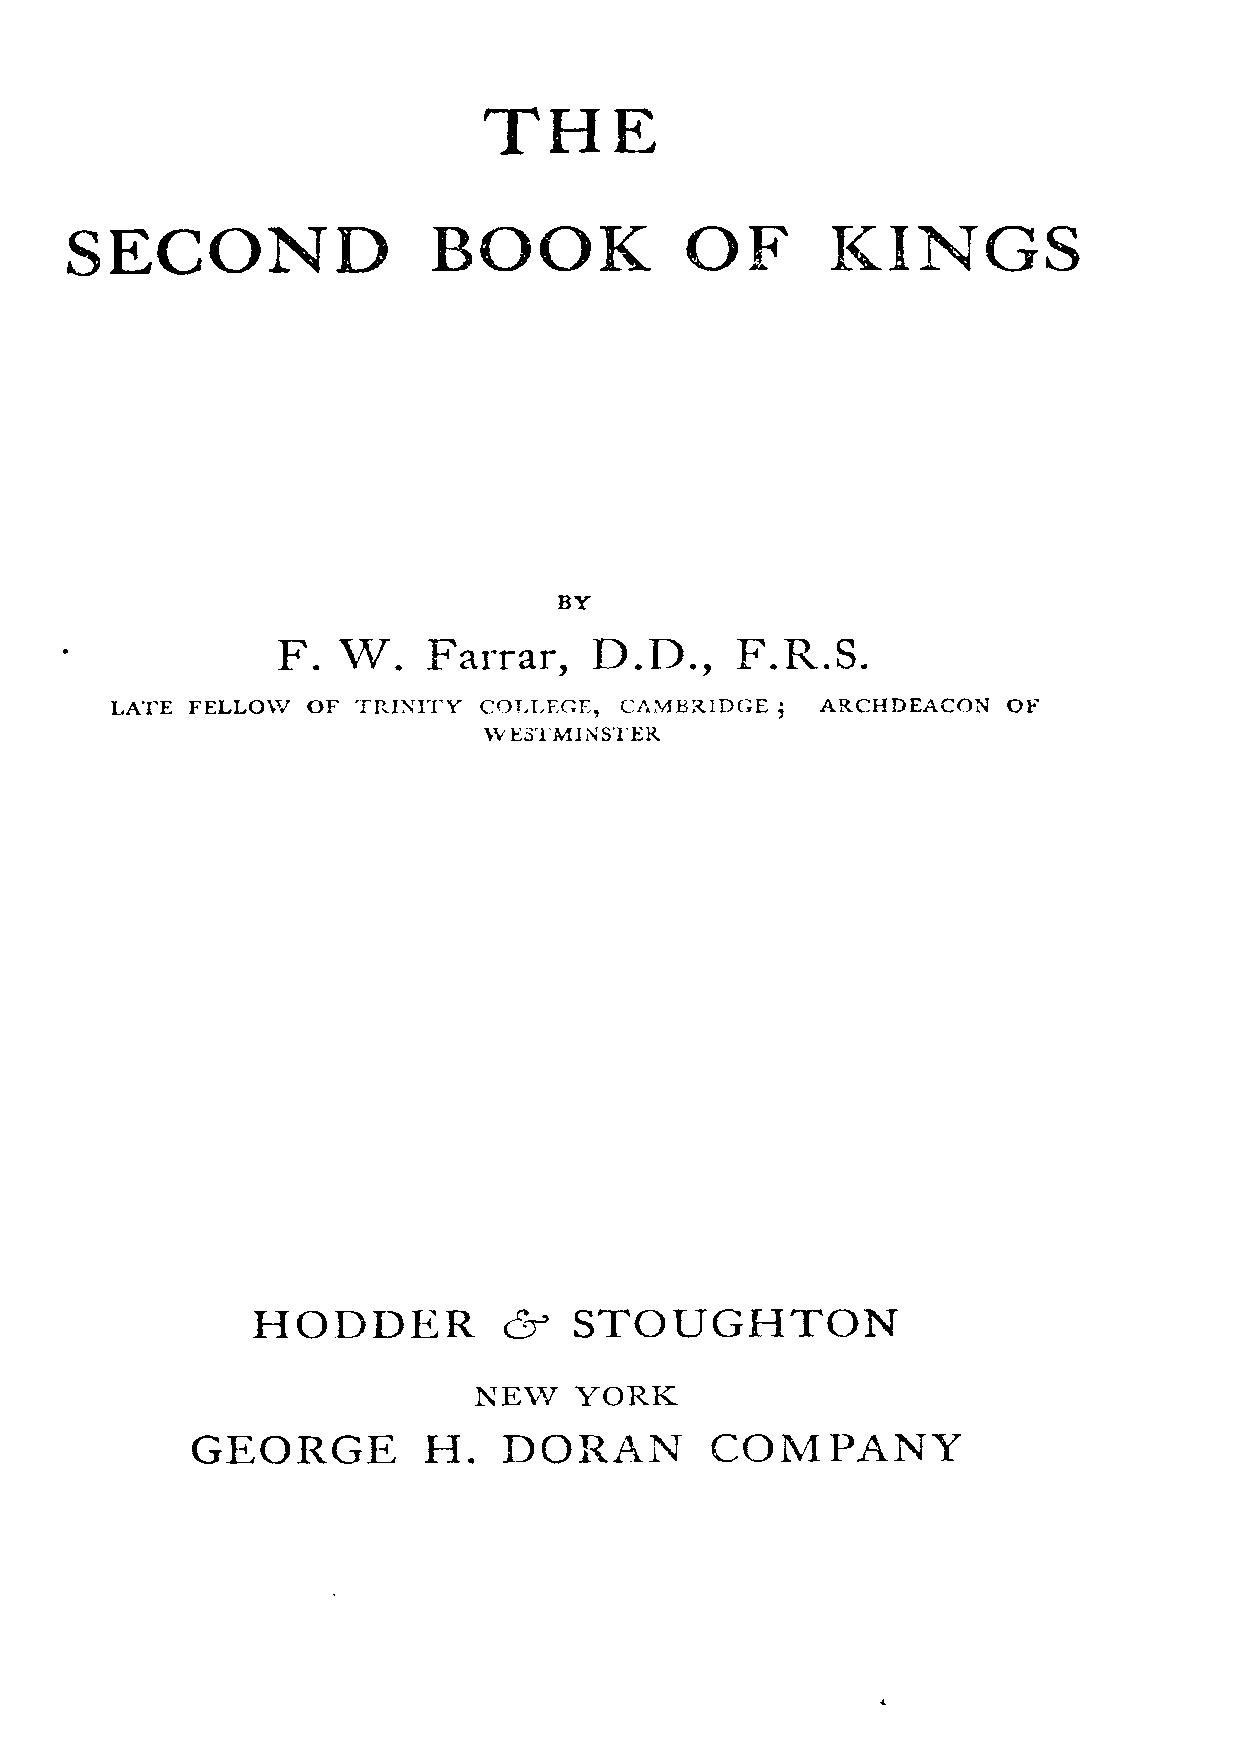author: (274, 593, 867, 674)
title: (60, 103, 1080, 282)
